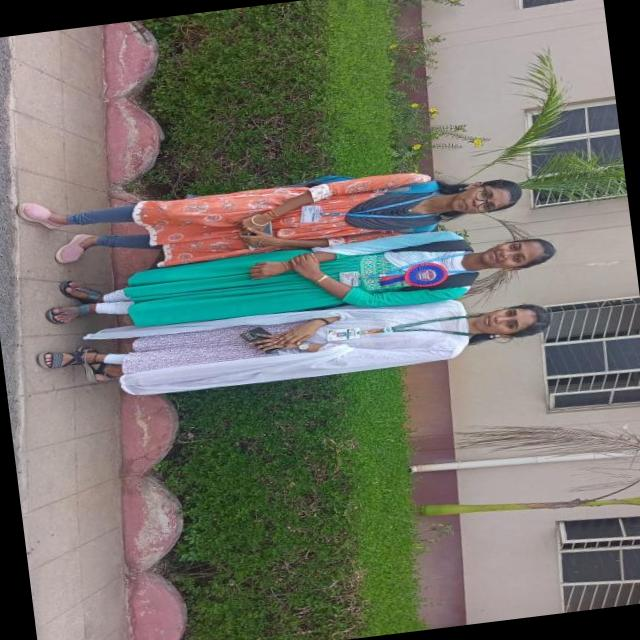id_card: (335, 246, 479, 296), (320, 306, 476, 352), (298, 190, 439, 232)
